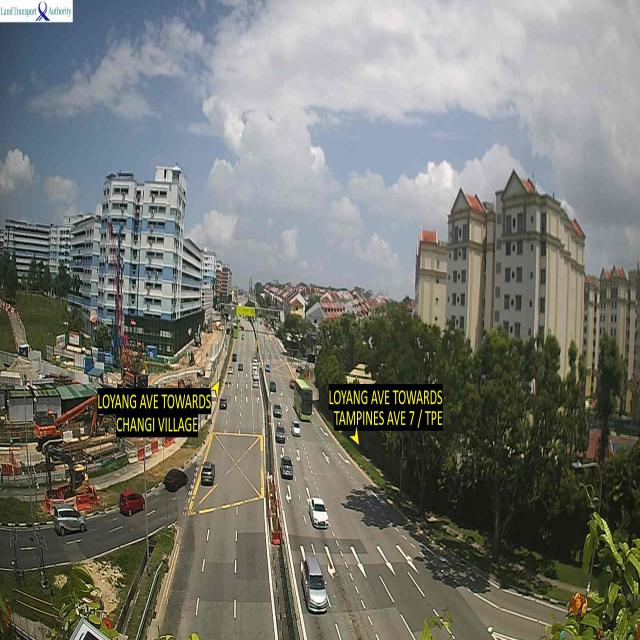vehicles: (296, 554, 328, 615), (292, 378, 316, 425), (118, 488, 150, 517), (53, 509, 84, 538), (308, 497, 330, 532), (280, 448, 299, 486), (163, 466, 189, 492), (202, 462, 218, 486), (290, 420, 304, 440), (278, 428, 290, 448), (272, 402, 283, 420), (221, 394, 230, 412)
